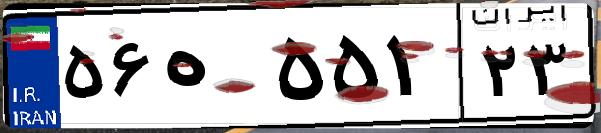1: (385, 28, 445, 110)
2: (475, 38, 525, 113)
3: (525, 38, 570, 115)
5: (270, 28, 330, 110), (330, 28, 385, 110), (57, 26, 110, 100)
6: (110, 28, 158, 98)
ه: (158, 20, 270, 120)
